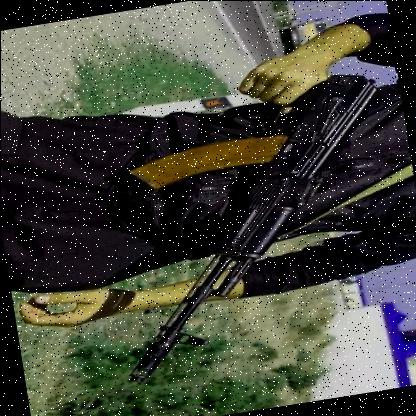rifle: (84, 59, 416, 387)
